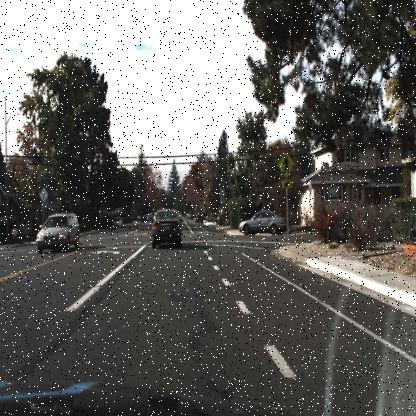car: (35, 210, 80, 256), (238, 207, 288, 237), (150, 208, 184, 249), (193, 209, 204, 228), (112, 215, 124, 229), (194, 211, 204, 224)
